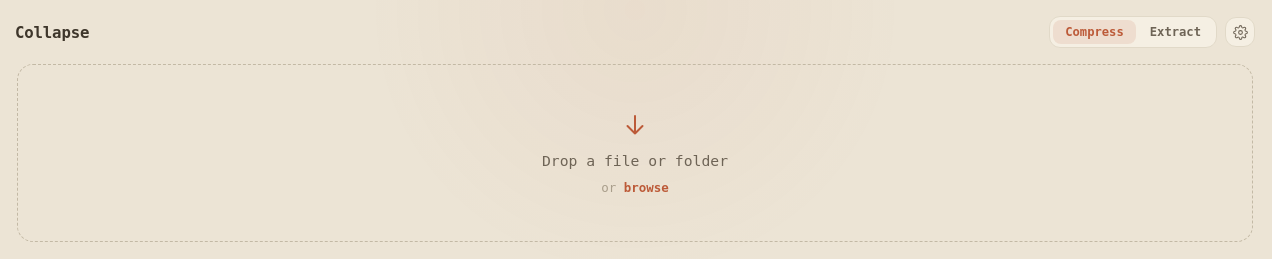
Test: App › switches to Extract mode
Click the button "Extract": (1175, 32) [1138,20,1213,44]
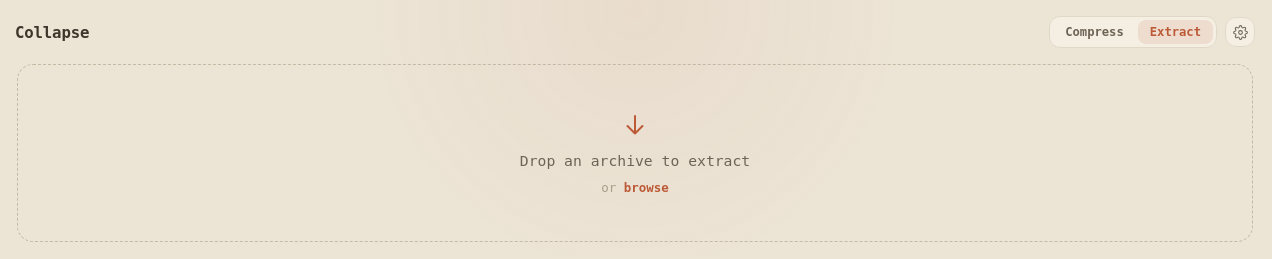
Check: the text "Drop an archive to extract" is shown, box [520,152,750,169]
